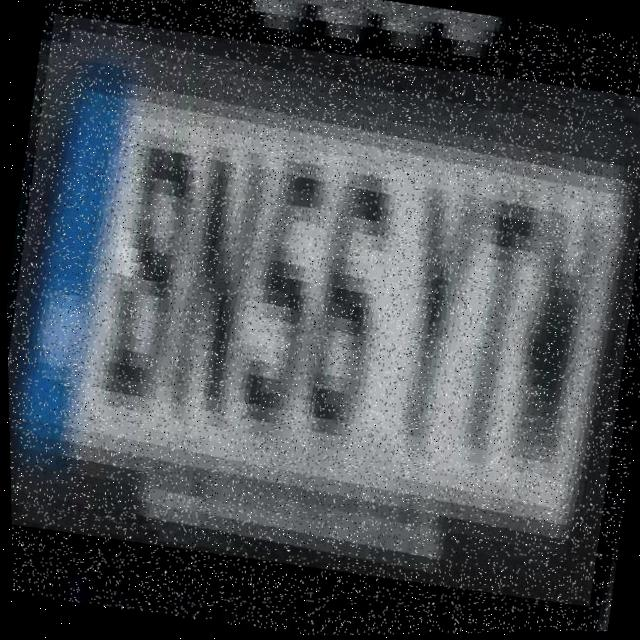LicensePlate: (0, 7, 640, 615)
